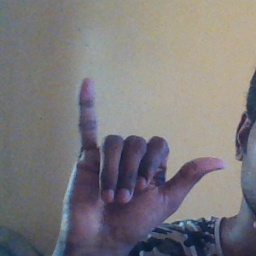J: (59, 77, 228, 247)
